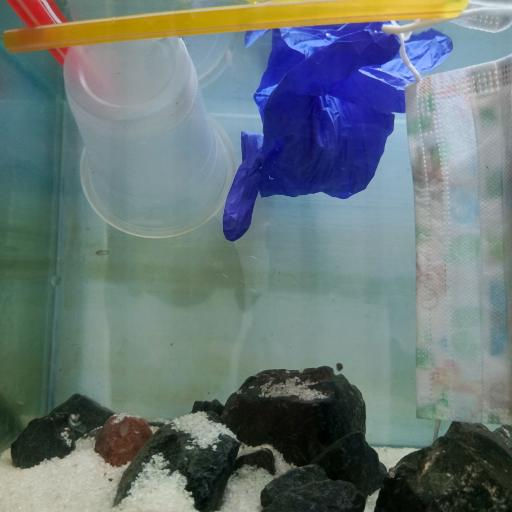glove: (223, 24, 455, 242)
mask: (383, 2, 512, 426)
plastic_cup: (65, 38, 236, 239)
plastic_straw: (3, 0, 469, 54), (11, 0, 72, 67)
